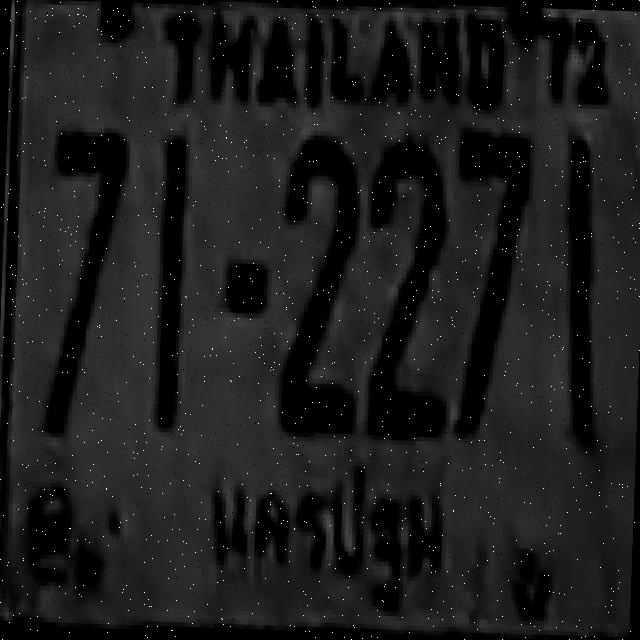1: (152, 132, 186, 372), (152, 132, 186, 354)
2: (363, 146, 446, 392), (275, 143, 358, 389), (276, 134, 358, 371), (364, 137, 446, 374), (275, 202, 358, 430), (364, 205, 444, 432)
7: (451, 128, 528, 338), (48, 128, 126, 320), (451, 126, 529, 318)
NakhonPathom: (198, 452, 459, 611)
